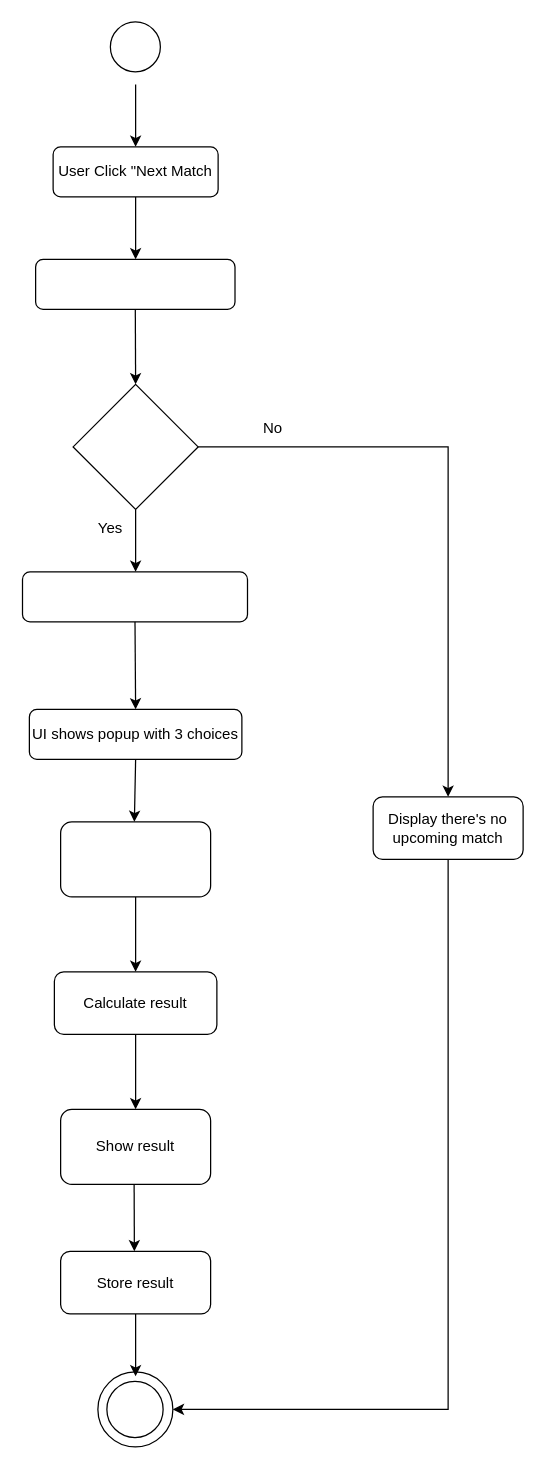
Image size: 545x1469. Some labels were removed from this diagram. The centre of each missing label's shape, as x and y in pixels:
Fetch match info (next-match): point 134,596
If there is a match: point 134,283
User Click: Skip Match: point 135,859
